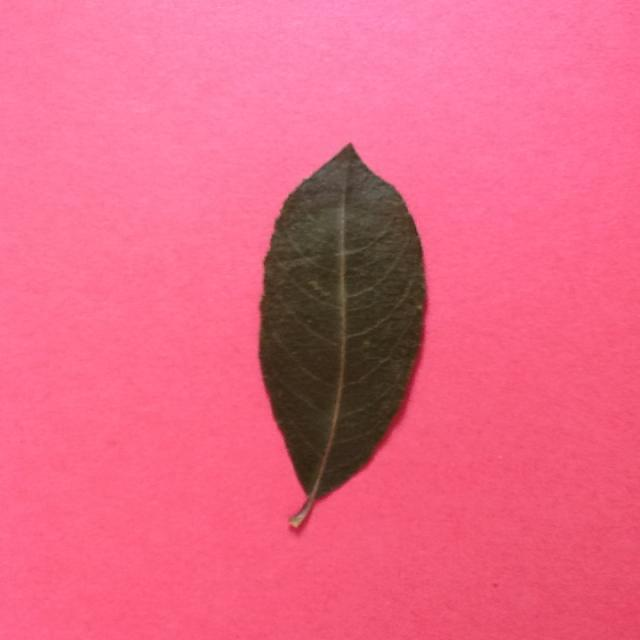foliage: (260, 142, 428, 530)
